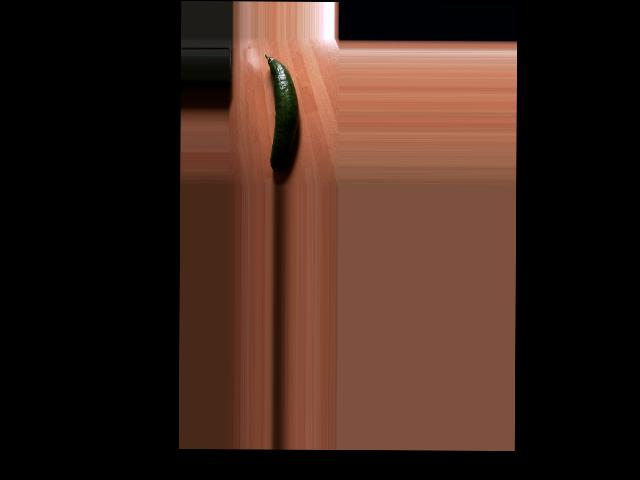cucumber: (264, 53, 299, 172)
